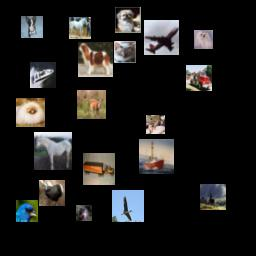airplane: (144, 20, 179, 55)
bird: (112, 190, 144, 222), (39, 180, 65, 206), (16, 200, 38, 222), (76, 205, 92, 221)
cat: (114, 41, 136, 63)
deer: (77, 90, 106, 119), (200, 184, 226, 210)
dog: (78, 42, 113, 77), (16, 98, 45, 127), (115, 7, 141, 33), (21, 16, 43, 38), (194, 30, 213, 49)
frog: (146, 115, 165, 134)
ship: (139, 139, 174, 174), (30, 62, 56, 88)
truck: (83, 153, 115, 185), (186, 65, 212, 91)
